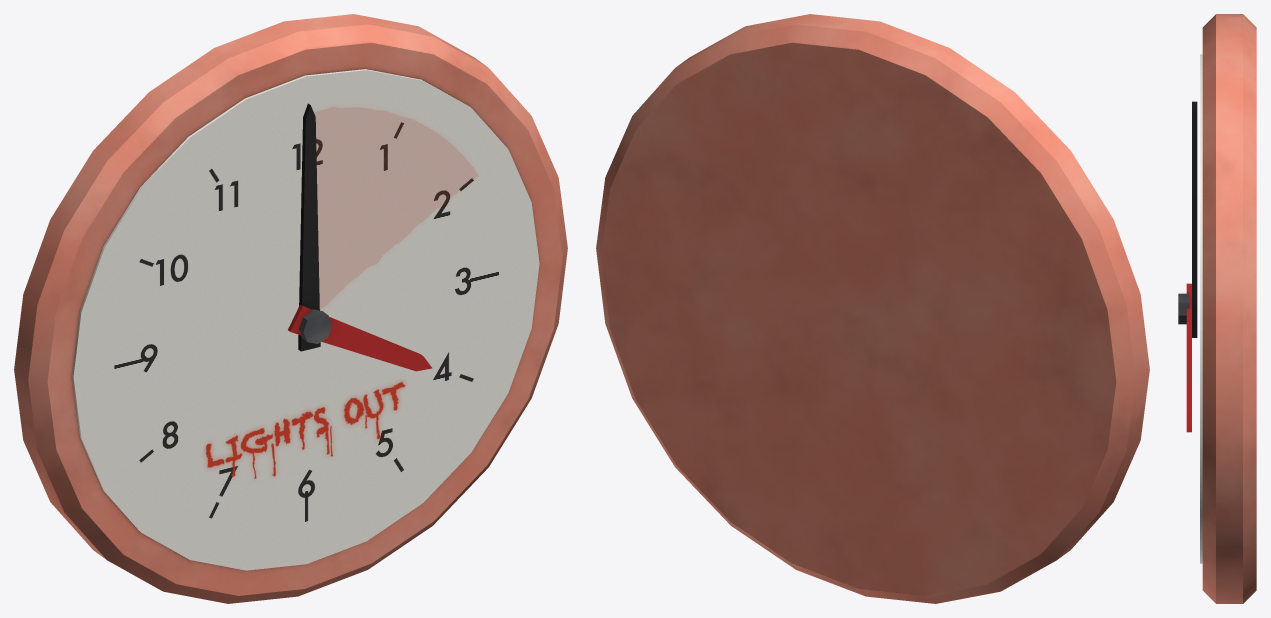
The model's file is wall_clock.fbx.
The picture shows the model from 3 angles, left to right: view 1: azimuth 30°, elevation 25°; view 2: azimuth 150°, elevation 25°; view 3: azimuth 270°, elevation 25°; orthographic projection. The views are drawn at different scales.
Visible parts, largest first — view 1: Screen, Body, Spin, Spin2; view 2: Body; view 3: Body, Screen, Spin, Spin2.
Part boxes in pixels (box(x1,y1,x2,y2)): Screen: box(72, 69, 539, 570); Body: box(14, 14, 567, 603); Spin: box(298, 103, 320, 351); Spin2: box(288, 305, 432, 371); Body: box(596, 14, 1149, 603); Body: box(1178, 14, 1256, 603); Screen: box(1200, 54, 1202, 563); Spin: box(1192, 101, 1197, 337); Spin2: box(1186, 283, 1191, 432).
Size of the model in its own units: 2.2 by 2.2 by 0.29.
2 materials, 2 textured.
